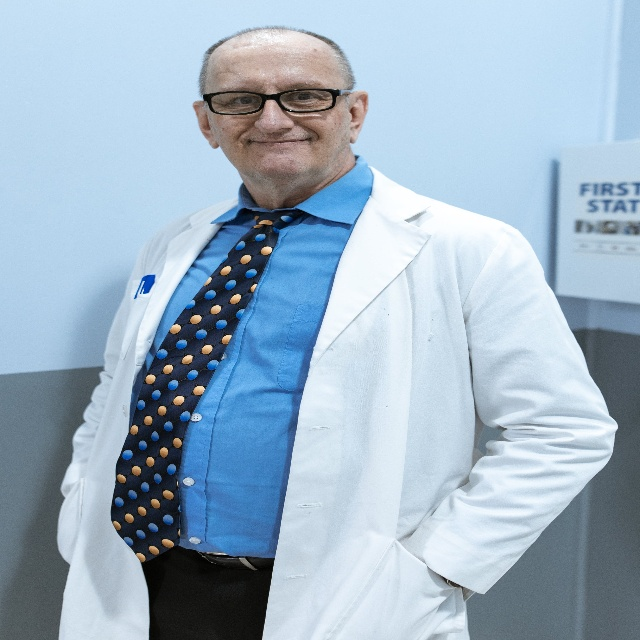Gafas: (201, 85, 348, 118)
